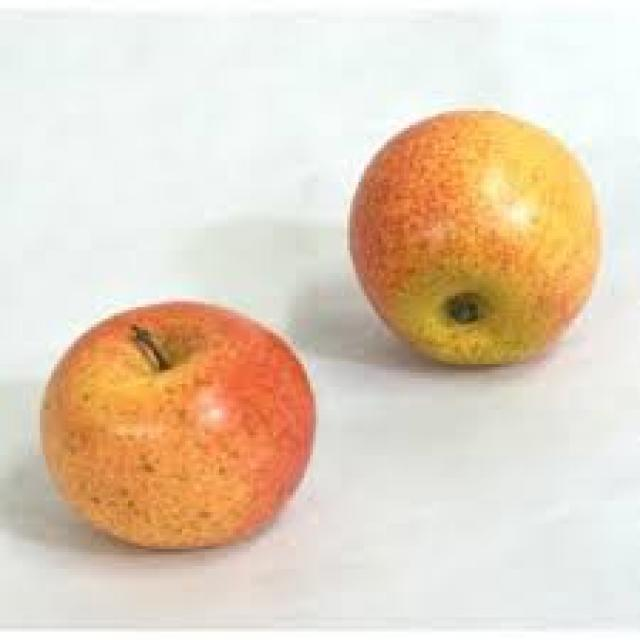organic waste: (37, 298, 319, 552), (339, 102, 603, 362)
